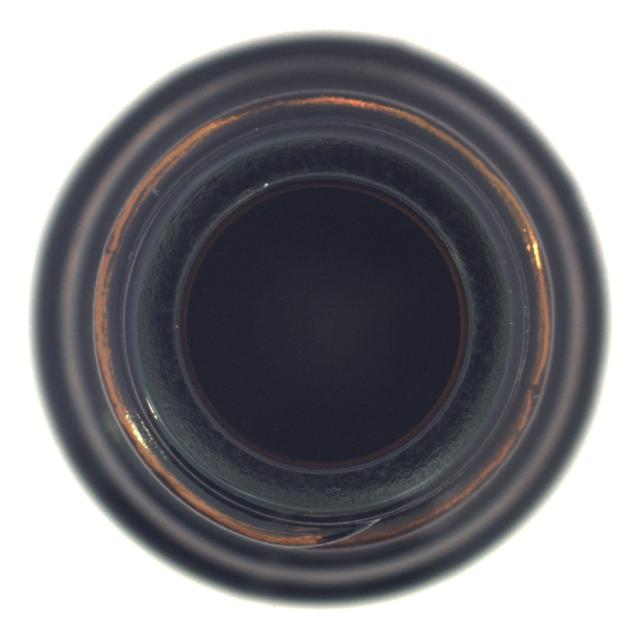bottle-good: (30, 33, 599, 605)
